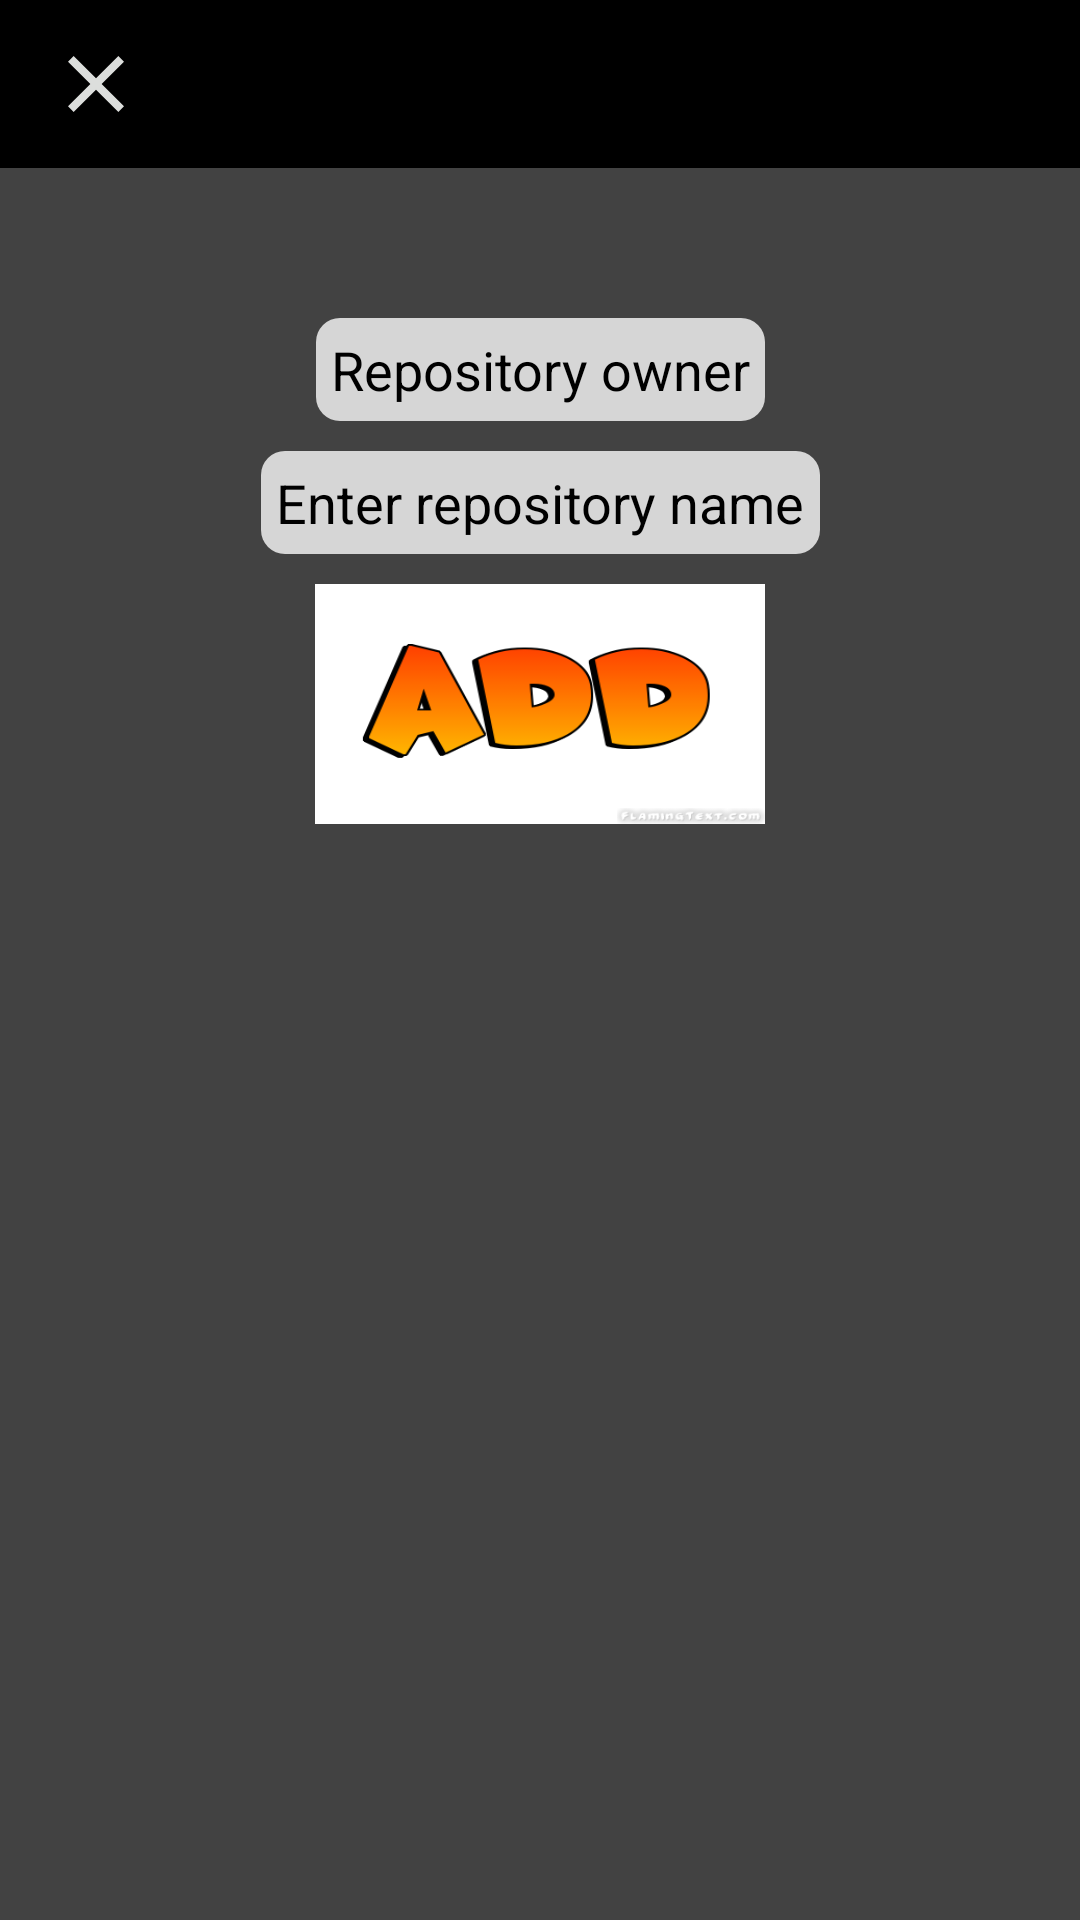

Where to tap for icons on this 1080 x 1920 app screen, as [x,y]:
close: [96,84]
